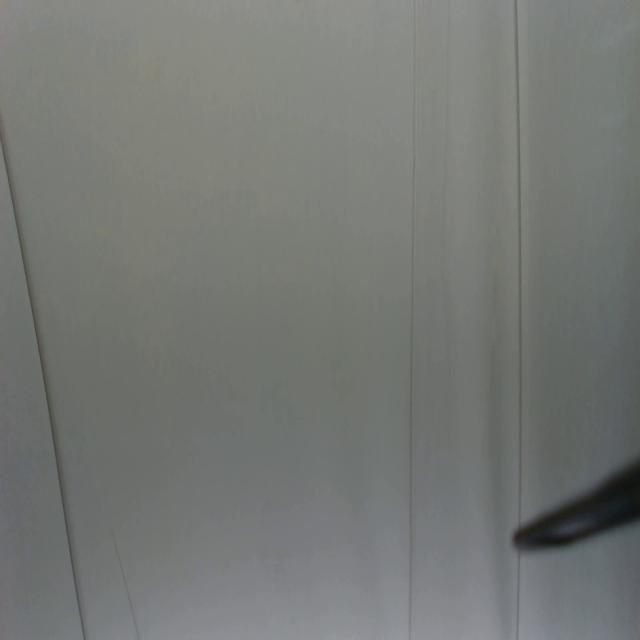crease: (0, 137, 87, 640), (404, 1, 420, 640), (510, 0, 528, 526), (439, 2, 455, 238), (514, 549, 522, 640)
